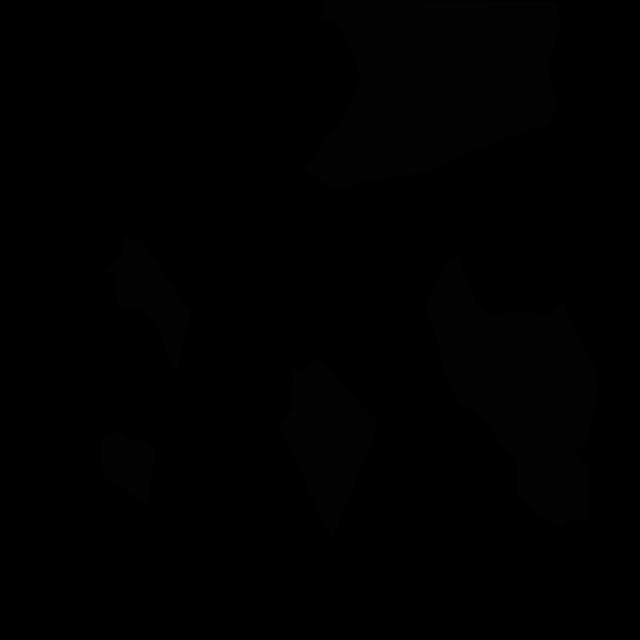cardboard: (305, 0, 562, 191), (424, 256, 598, 528), (278, 356, 380, 541), (106, 236, 190, 375), (100, 429, 156, 504)
